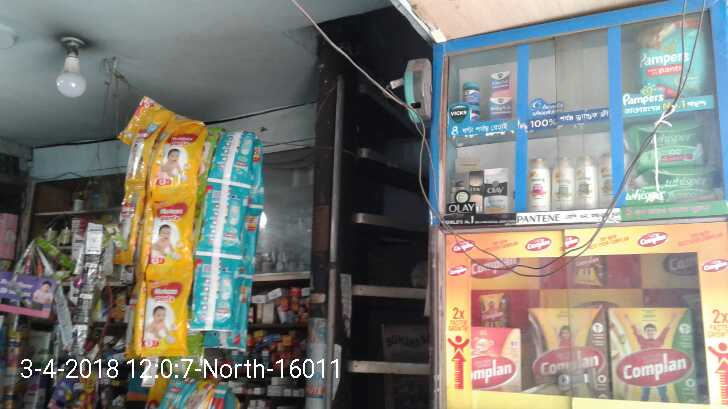vicks: (461, 65, 517, 124)
